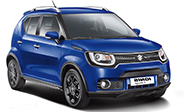car: (4, 4, 175, 110)
